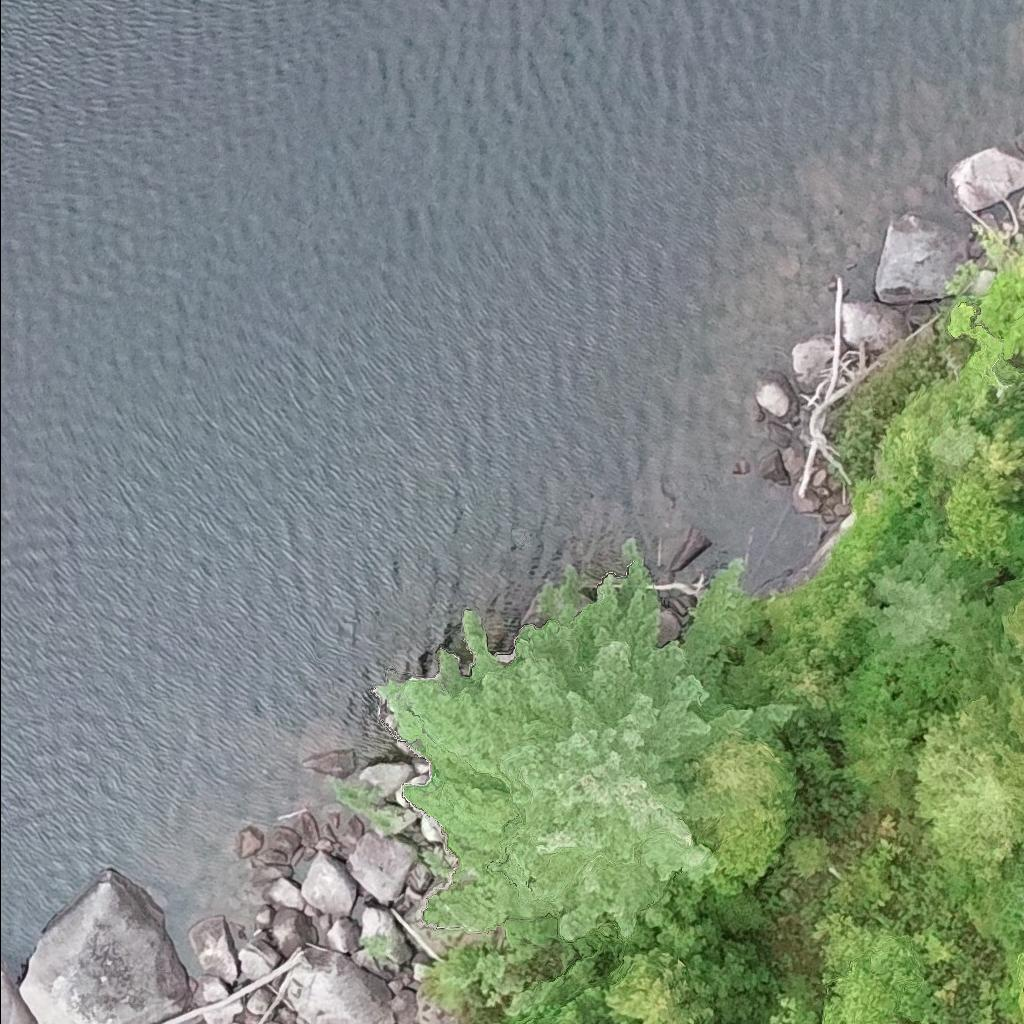crown: (376, 536, 801, 942), (910, 691, 1021, 887), (697, 730, 797, 892), (866, 515, 970, 646), (821, 912, 937, 1023), (599, 948, 720, 1023), (994, 598, 1023, 859), (982, 858, 1023, 953), (541, 985, 631, 1023), (1012, 946, 1023, 993)
